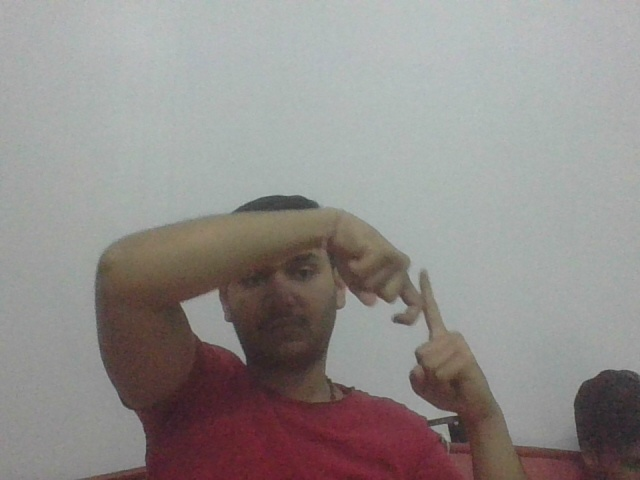K: (384, 260, 462, 347)
